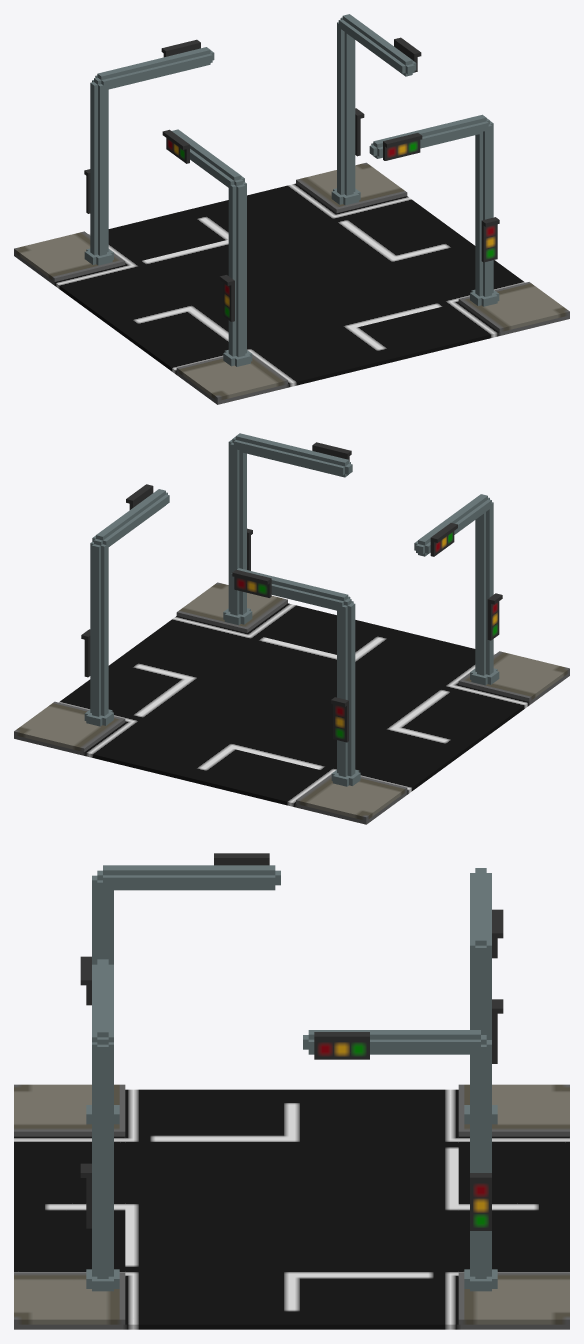
File: Carretera6.fbx
The picture shows the model from 3 angles, top to bottom: view 1: azimuth 30°, elevation 25°; view 2: azimuth 150°, elevation 25°; view 3: azimuth 270°, elevation 25°; orthographic projection. The views are drawn at different scales.
Parts seen in each view (by area): view 1: Carretera6; view 2: Carretera6; view 3: Carretera6.
Part boxes in pixels (<box>): Carretera6: <box>14,14,569,404</box>; Carretera6: <box>14,433,569,824</box>; Carretera6: <box>14,853,569,1329</box>.
Size of the model in its own units: 100 by 53 by 100.
